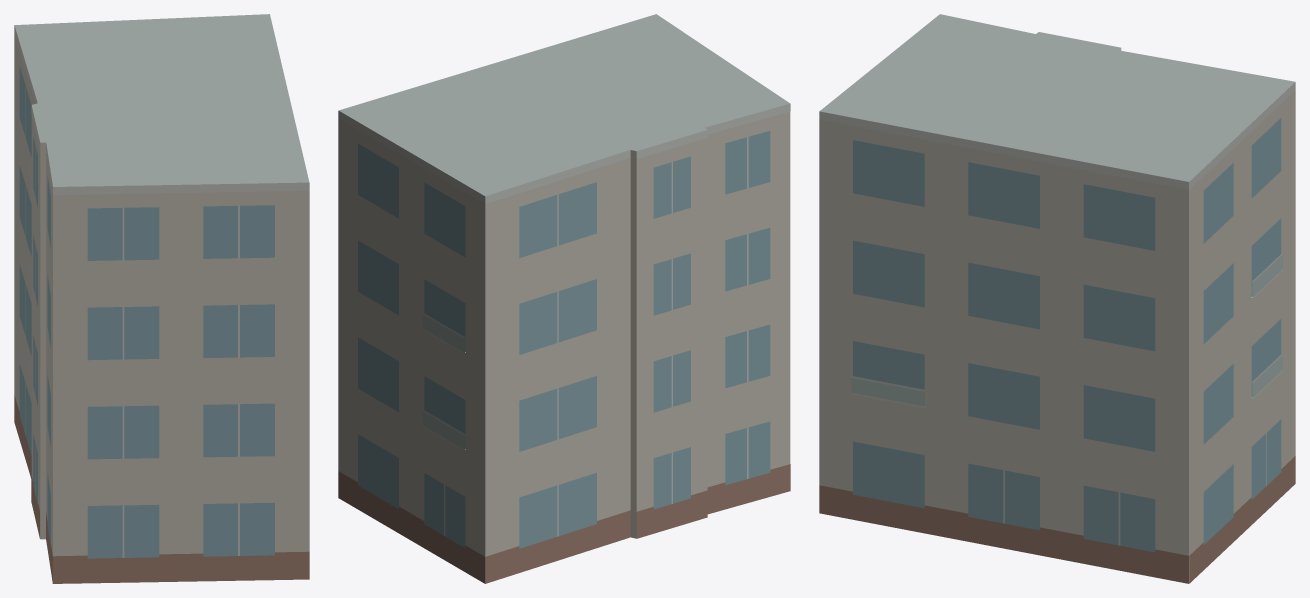
The model's file is survey-upis-32726192.glb.
The picture shows the model from 3 angles, left to right: view 1: azimuth 30°, elevation 25°; view 2: azimuth 150°, elevation 25°; view 3: azimuth 270°, elevation 25°; orthographic projection. The views are drawn at different scales.
Parts seen in each view (by area): view 1: survey-upis-32726192.tmp; view 2: survey-upis-32726192.tmp; view 3: survey-upis-32726192.tmp.
Part boxes in pixels (x1,y1,x2,y2): survey-upis-32726192.tmp: (14,14,309,583); survey-upis-32726192.tmp: (338,14,790,583); survey-upis-32726192.tmp: (819,14,1295,583).
Bounding box in the file's own units: 10.81 × 12.05 × 12.95.
